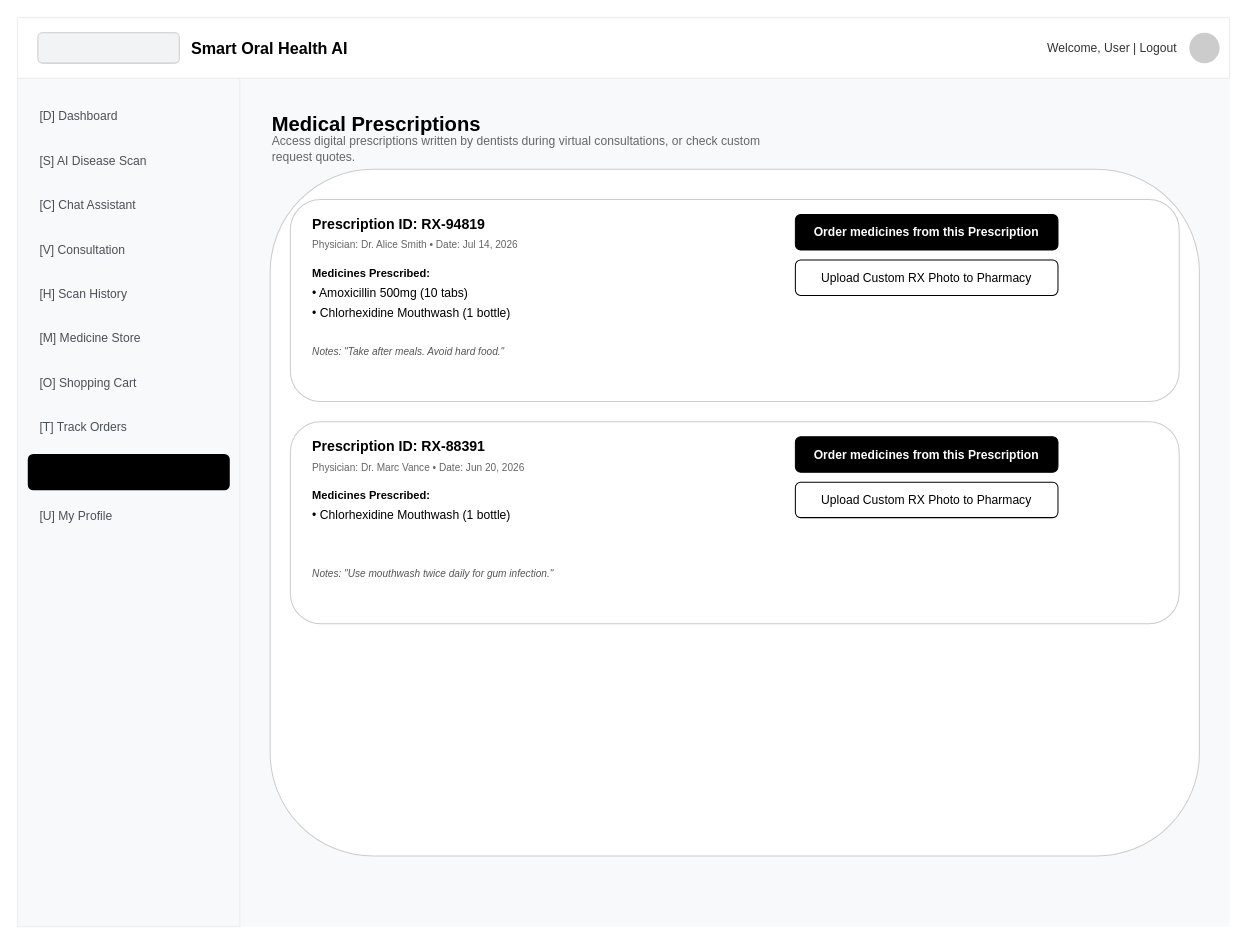
Some shapes in this 1247 by 944 pixel diagram are drawn without their labels. The centre of each missing label's shape, as x and y in pixels:
"[P] Prescriptions" belongs at point (128, 471).
"Tooth Mascot [Animated]" belongs at point (108, 47).
